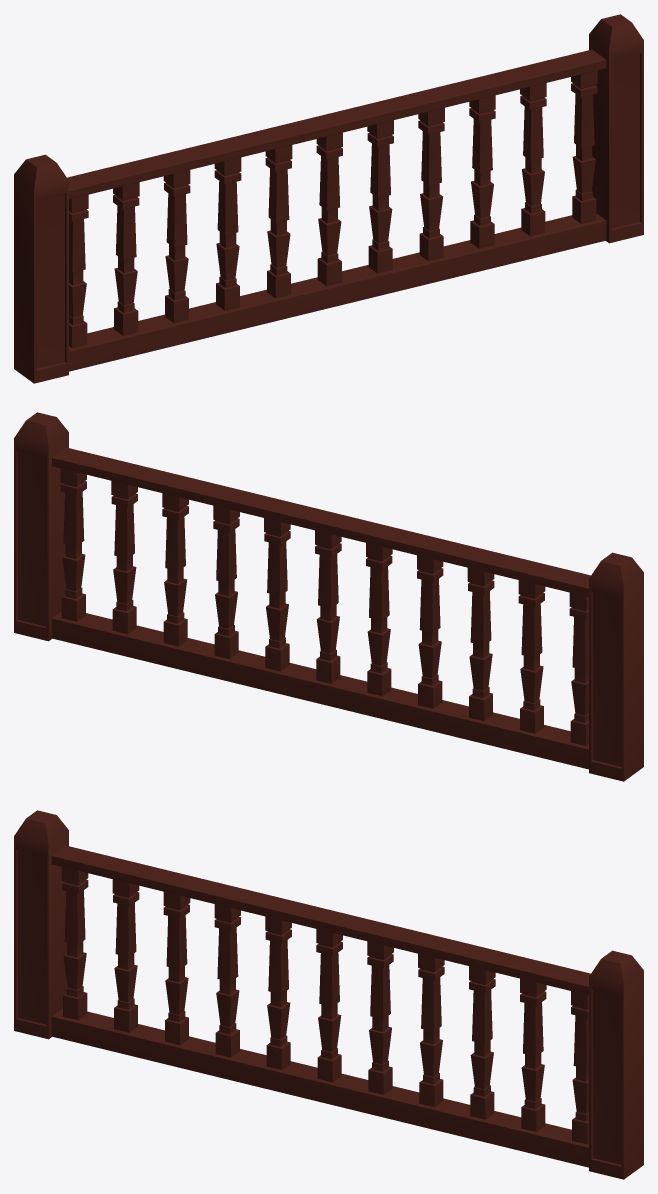
Rendered from Ornate_Court_Railing.fbx.
3 renders of one model, top to bottom at view 1: azimuth 30°, elevation 25°; view 2: azimuth 150°, elevation 25°; view 3: azimuth 330°, elevation 25°, orthographic.
Visible parts, largest first — view 1: Rail_Piece; view 2: Rail_Piece; view 3: Rail_Piece.
Part boxes in pixels (x1=…): Rail_Piece: x1=14, y1=14, x2=643, y2=383; Rail_Piece: x1=14, y1=412, x2=643, y2=781; Rail_Piece: x1=14, y1=810, x2=643, y2=1179.
Bounding box in the file's own units: 2286 × 756 × 131.
